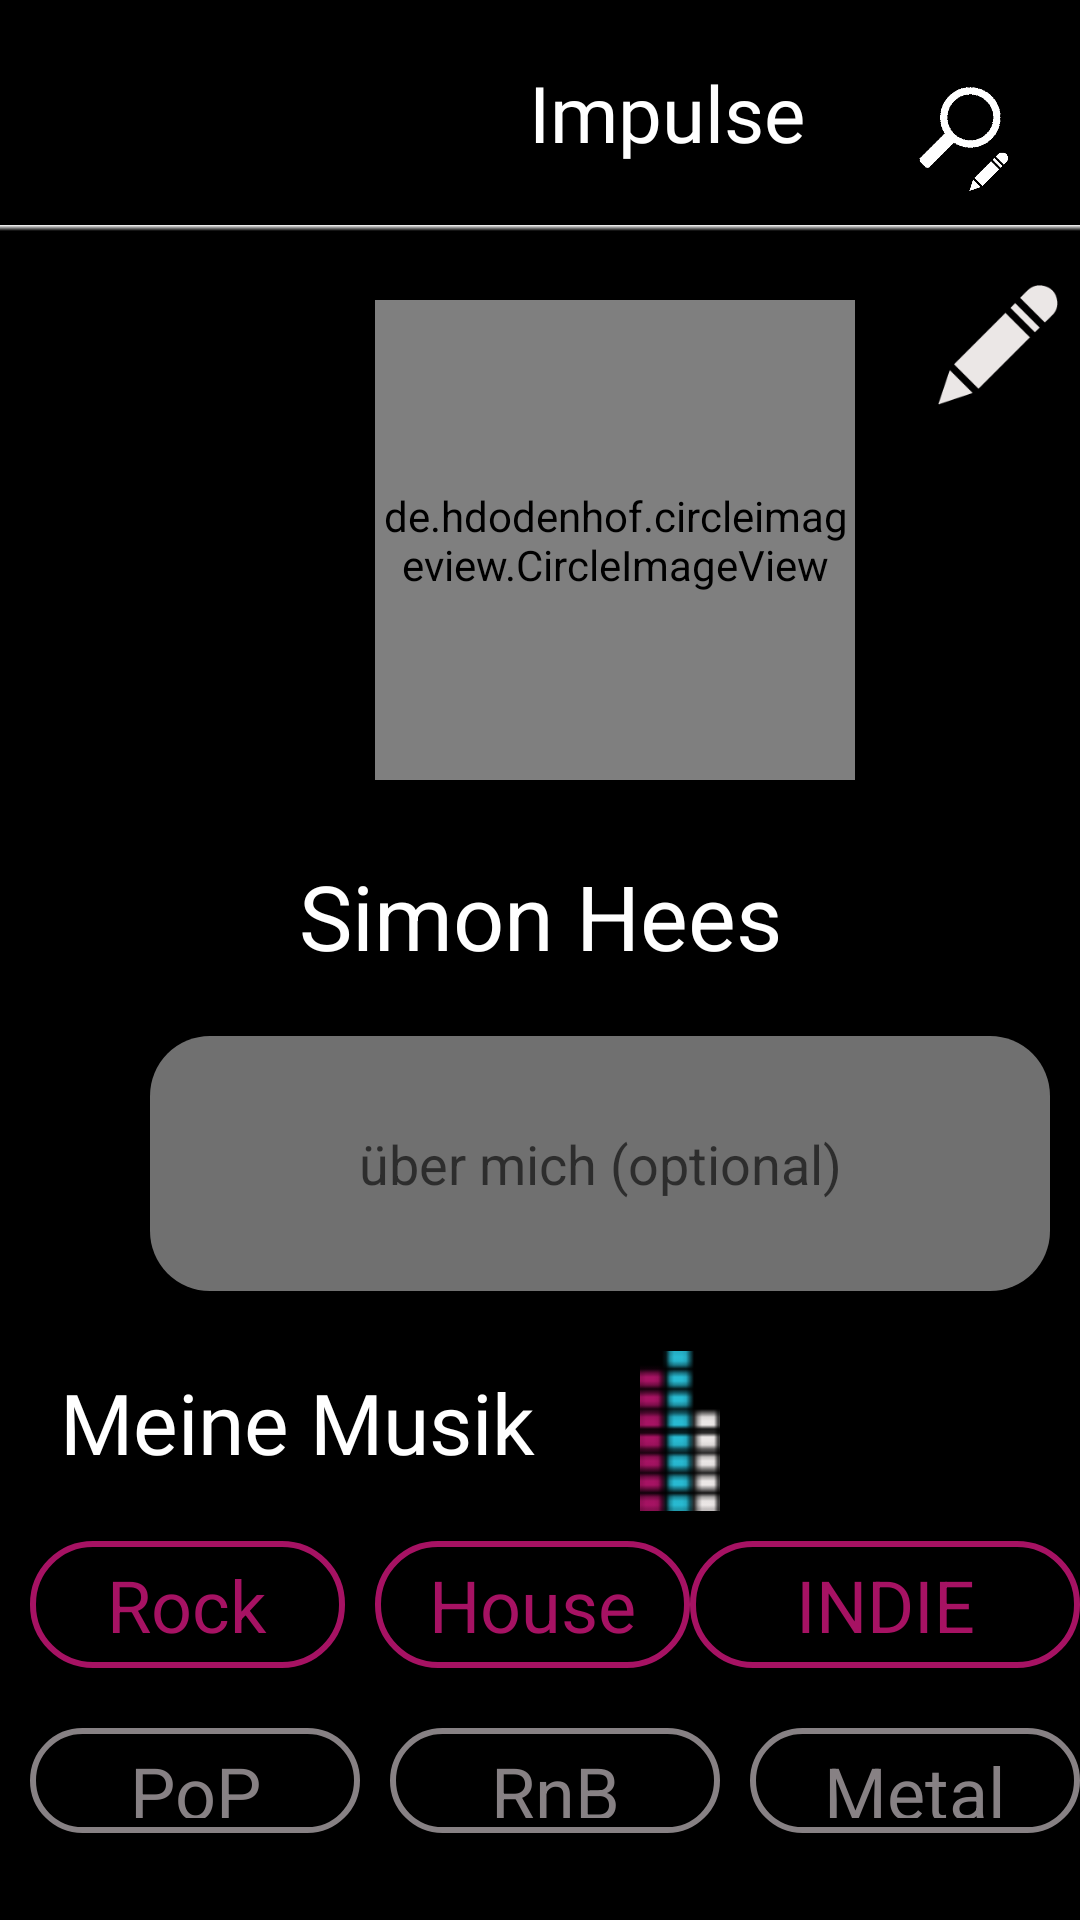

Icons on this 1080 × 1920 Android screen, each with its box as (x1, y1, x2, y2):
lupemitstift: (919, 87, 1008, 191)
stift: (938, 285, 1058, 405)
